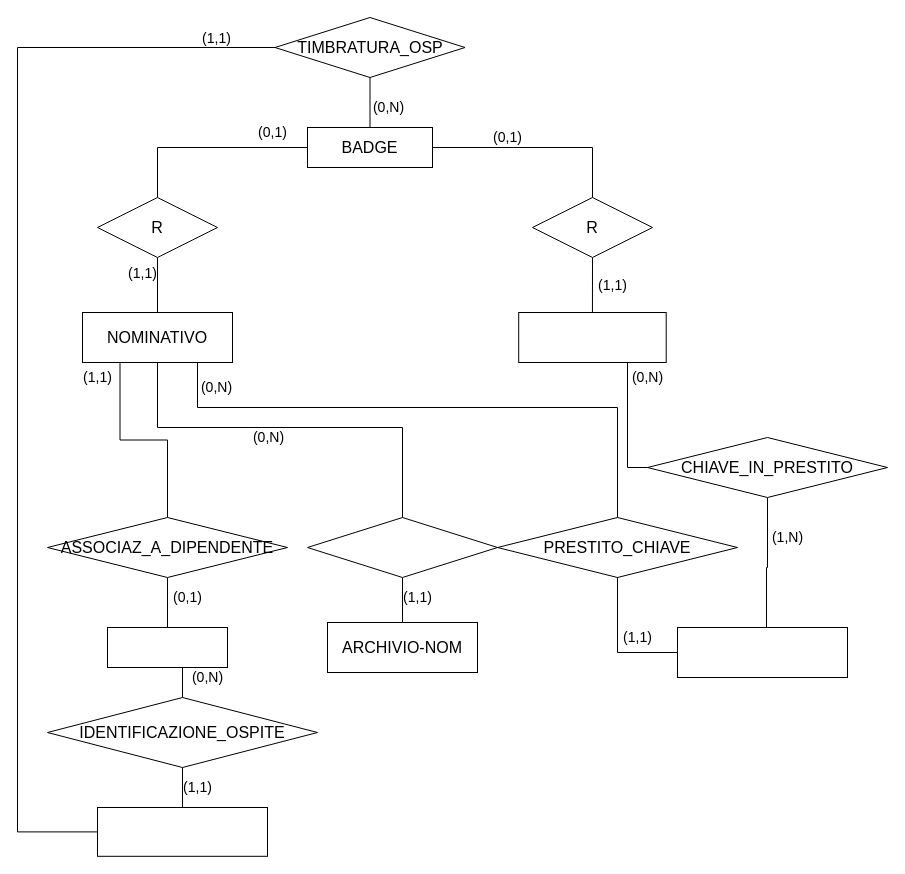
The diagram is 905 pixels wide and 874 high, and some of its shapes have lost their labels. The centre of each missing label's shape, as x and y in pixels:
"ARCHIVIO-CHIAVE" belongs at [762,652].
"ARCHIVIO-OSPITE" belongs at [182,831].
"CHIAVE" belongs at [592,337].
"PERSONA" belongs at [167,647].
"TIMBRATURA_NOM" belongs at [402,547].
